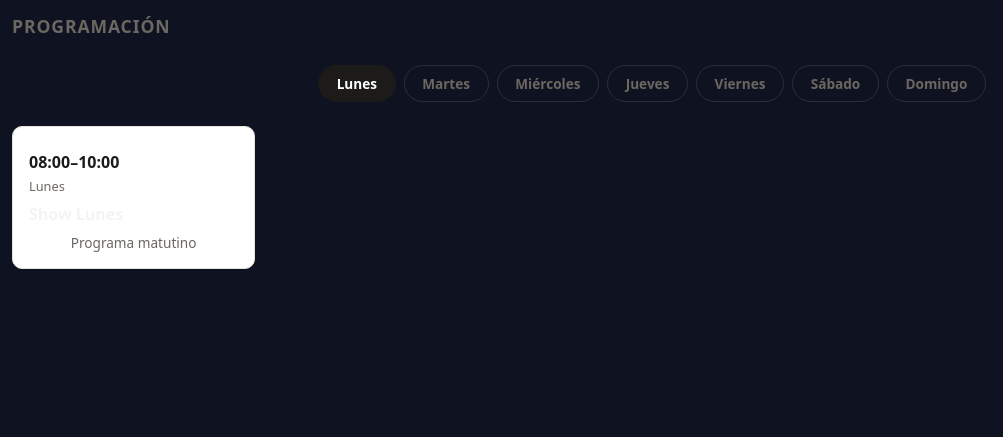
Test: ProgramsSection › variante tabs: lista los días y muestra tarjetas del día seleccionado
The image size is (1003, 437).
What coordinates should you click on to do the following:
click the tab "Martes"
I would click on:
 (446, 84)
Its box is left=404, top=65, right=489, bottom=102.
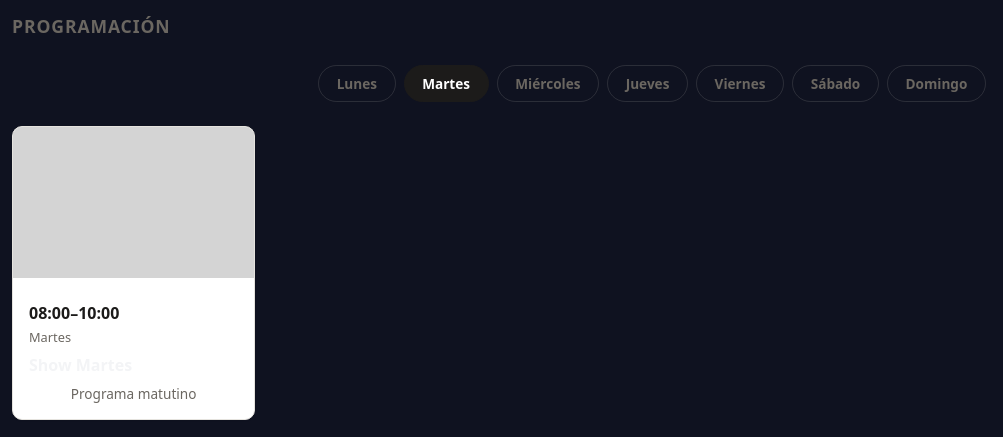
Check: the text "08:00–10:00" is shown, box left=29, top=302, right=119, bottom=324
Check: the heading "Show Lunes" is gone
What coordinates should you click on to do the following:
click the tab "Lunes"
I would click on:
 (357, 84)
Its box is left=318, top=65, right=396, bottom=102.
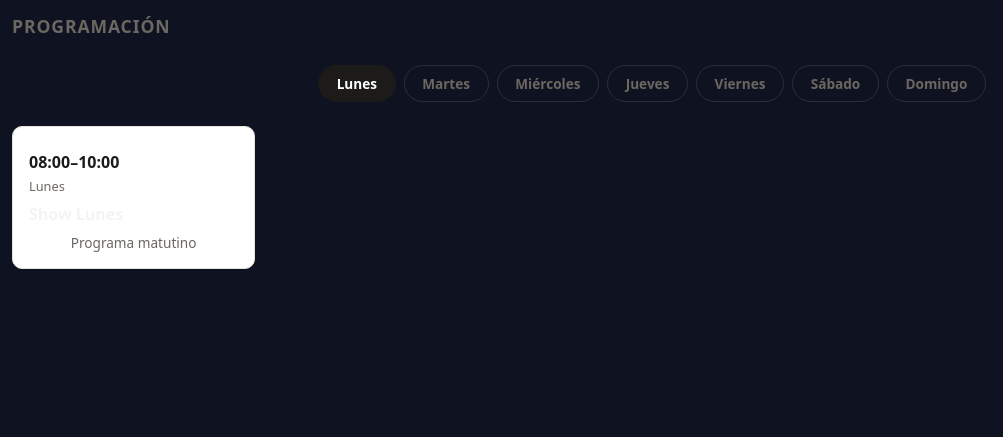
Check: the heading "Show Martes" is gone
